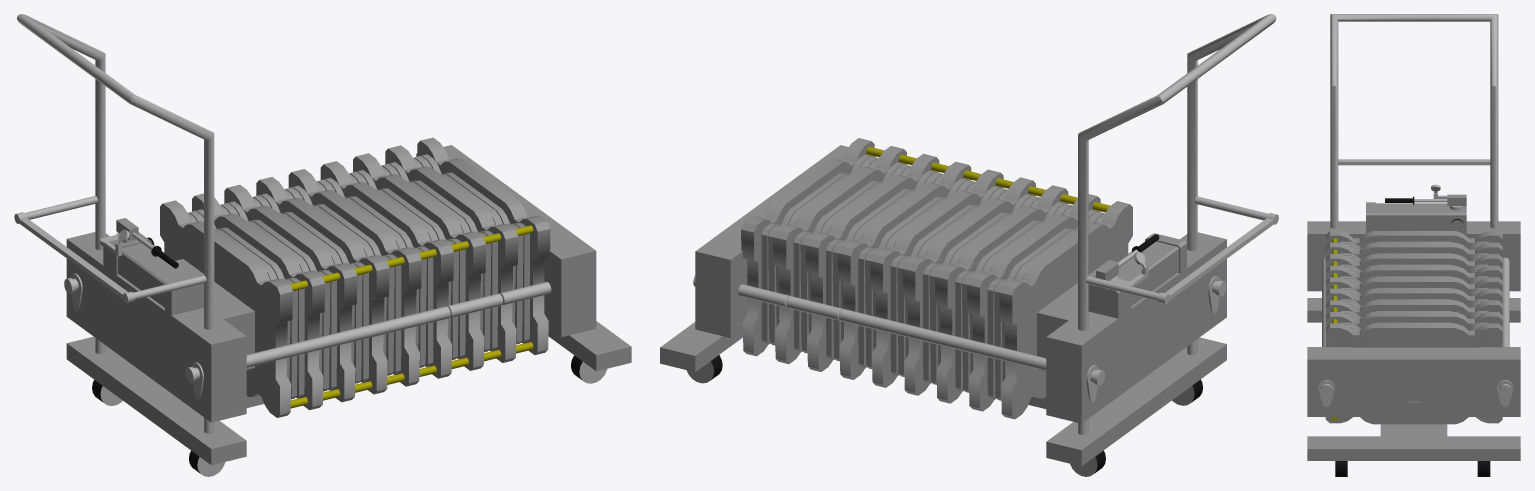
Rendered from SartoClear.FBX.
3 renders of one model, left to right at view 1: azimuth 30°, elevation 25°; view 2: azimuth 150°, elevation 25°; view 3: azimuth 270°, elevation 25°, orthographic. The views are drawn at different scales.
Visible parts, largest first — view 1: Box059; view 2: Box059; view 3: Box059.
Boxes of the visible parts, box(x1,y1,x2,y2) form: Box059: box(14, 14, 631, 476); Box059: box(660, 14, 1278, 476); Box059: box(1307, 14, 1520, 476).
Size of the model in its own units: 174 by 137 by 89.27.
